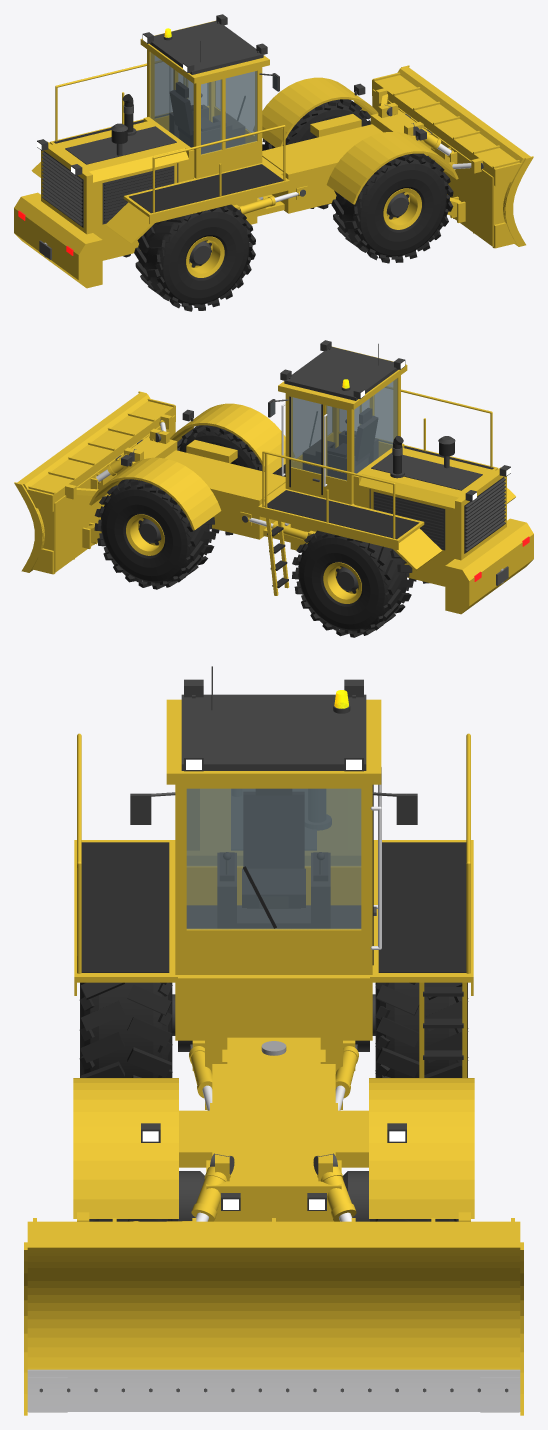
The model's file is wheel_dozer.glb.
3 renders of one model, top to bottom at view 1: azimuth 30°, elevation 25°; view 2: azimuth 150°, elevation 25°; view 3: azimuth 270°, elevation 25°, orthographic. The views are drawn at different scales.
Parts seen in each view (by area): view 1: rear_frame, cab, front_frame, blade, wheel_rear_right, wheel_front_right, wheel_front_left, lift_cylinders, push_arms; view 2: rear_frame, cab, front_frame, blade, wheel_rear_left, wheel_front_left, wheel_front_right, lift_cylinders, push_arms; view 3: blade, cab, front_frame, rear_frame, wheel_rear_right, wheel_rear_left, axles, lift_cylinders.
Boxes of the visible parts, bbox=[...] form: rear_frame: bbox=[14, 60, 289, 288]; cab: bbox=[140, 14, 279, 178]; front_frame: bbox=[238, 77, 458, 216]; blade: bbox=[372, 65, 533, 248]; wheel_rear_right: bbox=[134, 204, 255, 311]; wheel_front_right: bbox=[331, 153, 453, 263]; wheel_front_left: bbox=[262, 99, 370, 209]; lift_cylinders: bbox=[384, 104, 453, 157]; push_arms: bbox=[381, 94, 483, 216]; rear_frame: bbox=[258, 386, 533, 614]; cab: bbox=[268, 340, 407, 504]; front_frame: bbox=[89, 403, 308, 542]; blade: bbox=[14, 391, 175, 574]; wheel_rear_left: bbox=[292, 530, 413, 637]; wheel_front_left: bbox=[94, 479, 216, 589]; wheel_front_right: bbox=[177, 425, 285, 535]; lift_cylinders: bbox=[94, 430, 163, 483]; push_arms: bbox=[76, 419, 166, 542]; blade: bbox=[24, 1212, 523, 1415]; cab: bbox=[130, 666, 417, 974]; front_frame: bbox=[73, 1037, 474, 1221]; rear_frame: bbox=[74, 733, 473, 1109]; wheel_rear_right: bbox=[79, 982, 172, 1077]; wheel_rear_left: bbox=[375, 982, 468, 1077]; axles: bbox=[172, 994, 375, 1221]; lift_cylinders: bbox=[191, 1153, 356, 1221].
Size of the model in its own units: 8 by 4.3 by 4.06.
